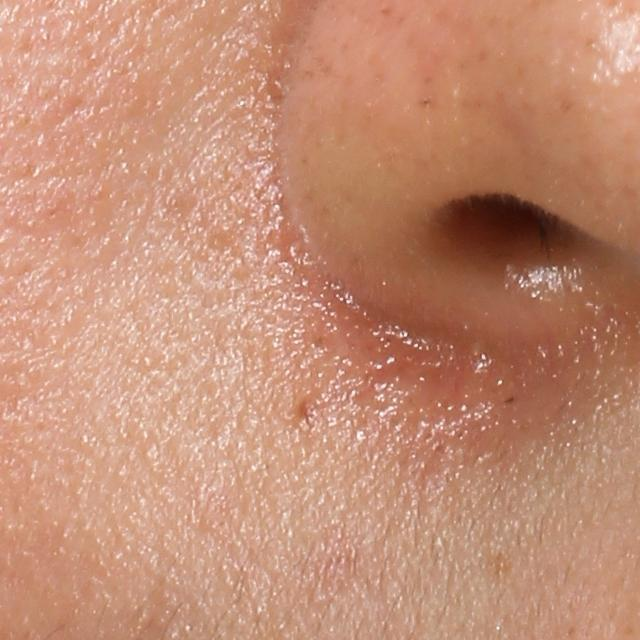nevus: (296, 399, 317, 425)
